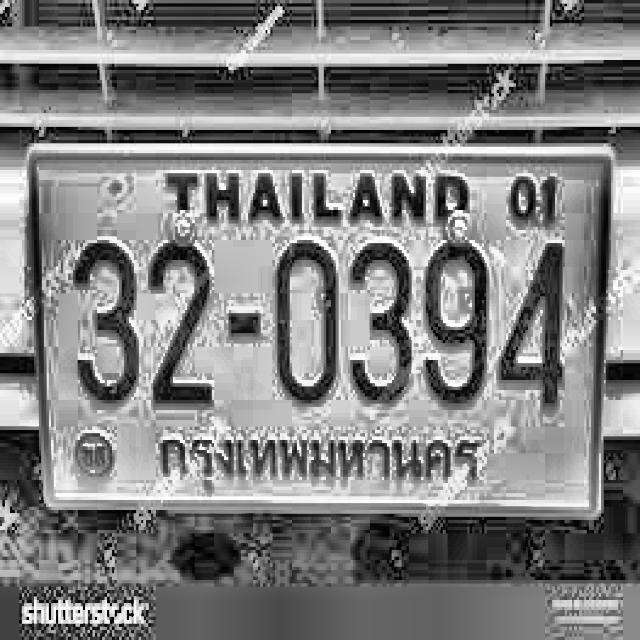license-plate: (26, 143, 614, 520)
